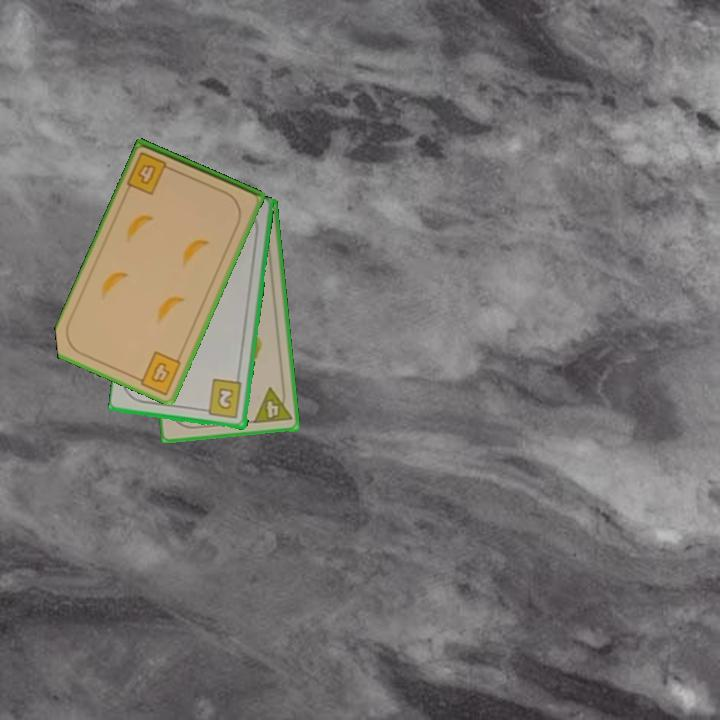2b: (199, 376, 245, 421)
4b: (124, 148, 178, 198), (131, 348, 184, 397)
4p: (250, 383, 294, 426)
